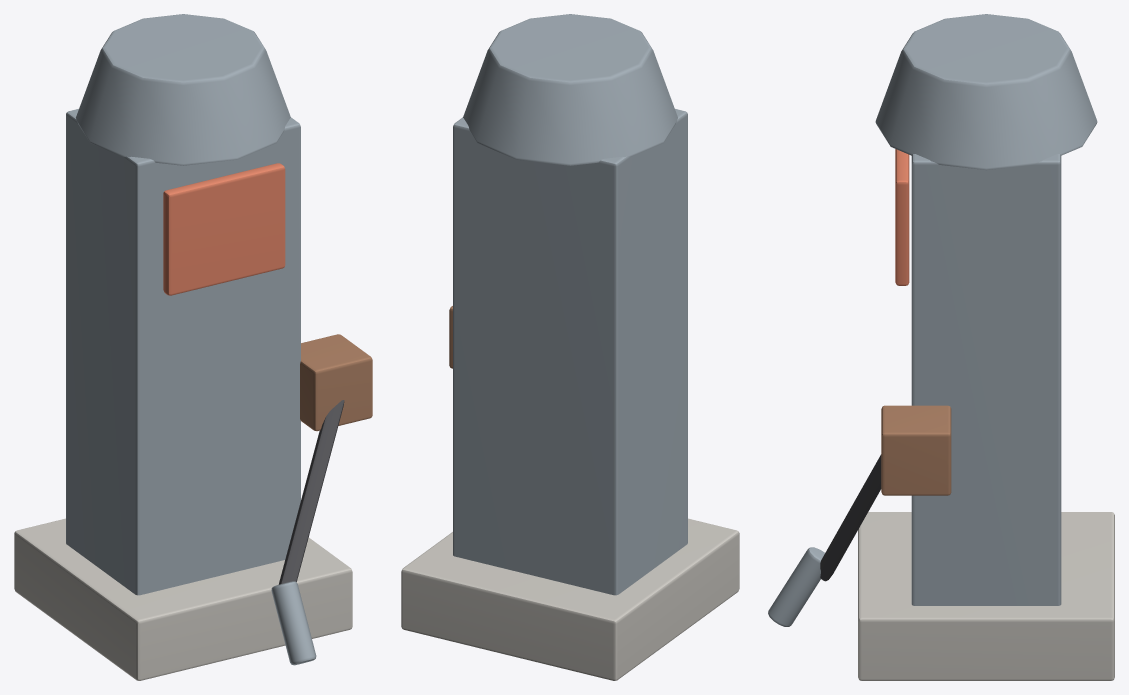
The model's file is fuel_pump.glb.
3 views of the same model, side by side, from view 1: azimuth 30°, elevation 25°; view 2: azimuth 150°, elevation 25°; view 3: azimuth 270°, elevation 25° (orthographic). The views are drawn at different scales.
Parts seen in each view (by area): view 1: fuel_pump; view 2: fuel_pump; view 3: fuel_pump.
Part boxes in pixels (x1,y1,x2,y2): fuel_pump: (14, 14, 372, 680); fuel_pump: (401, 14, 739, 680); fuel_pump: (768, 14, 1114, 680).
Size of the model in its own units: 0.63 by 1.37 by 0.7427.
